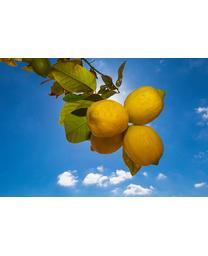lemon: (86, 99, 130, 141), (124, 125, 164, 167), (123, 88, 166, 125)
